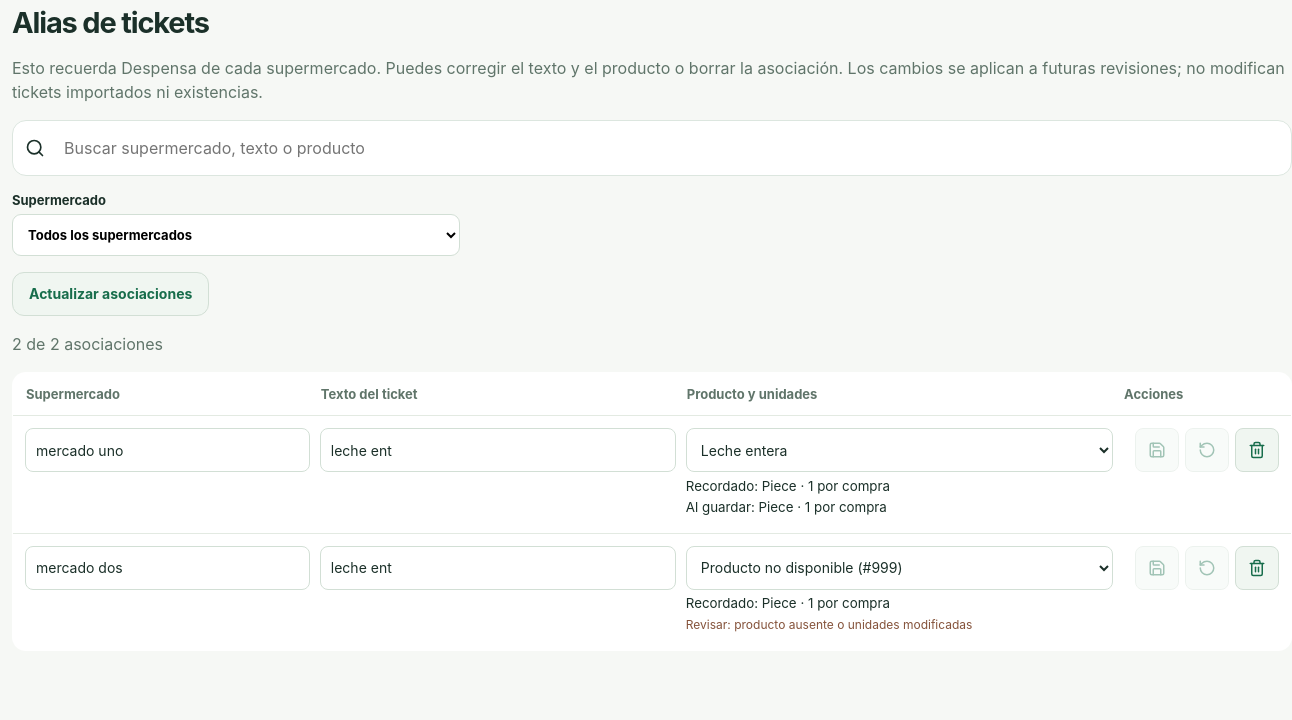
Test case: shows every merchant-scoped mapping and missing identities, filters without writes
Check: the text "2 de 2 asociaciones" is shown, box left=12, top=334, right=163, bottom=354
Check: the text "Revisar: producto ausente o unidades modificadas" is shown, box left=686, top=617, right=972, bottom=632
Select "mercado dos" in the dropdown labelled "Supermercado": (236, 235) left=12, top=214, right=460, bottom=256
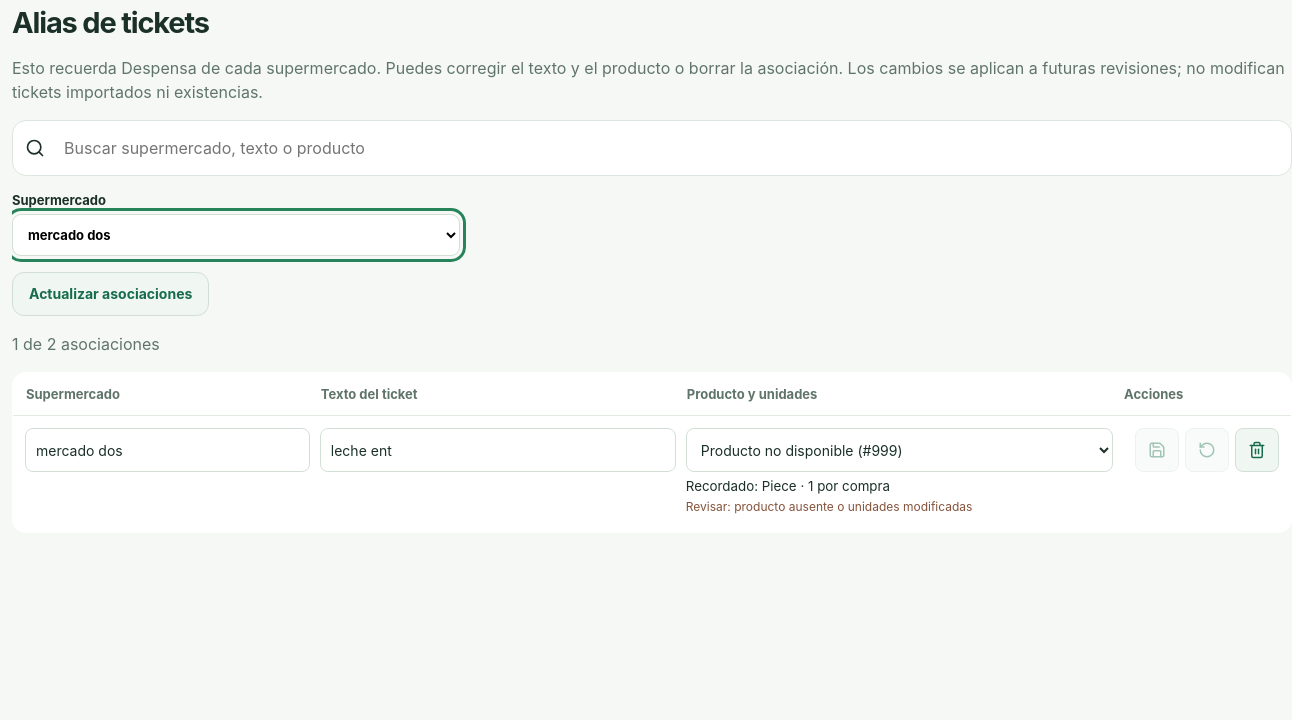
Check: the text "1 de 2 asociaciones" is shown, box left=12, top=334, right=160, bottom=354
In the search field: (667, 148) left=55, top=129, right=1279, bottom=167, type "no existe"
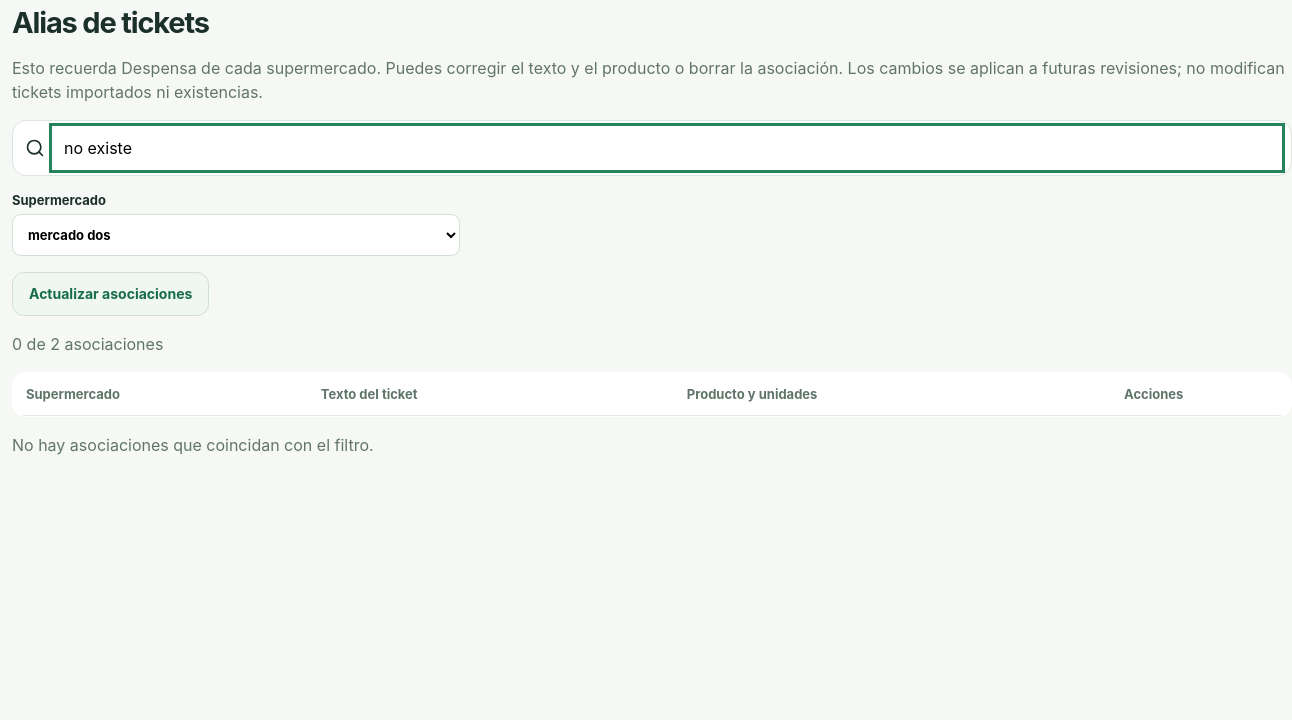
Check: the text "0 de 2 asociaciones" is shown, box left=12, top=334, right=163, bottom=354
